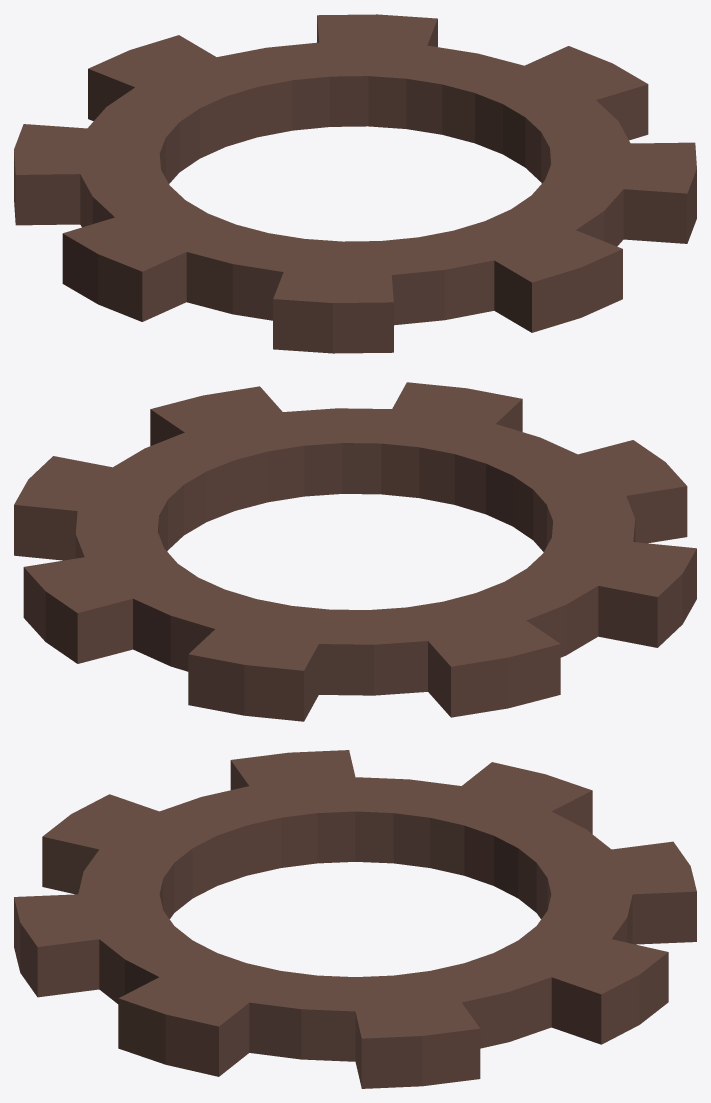
File: cog.glb
3 renders of one model, top to bottom at view 1: azimuth 30°, elevation 25°; view 2: azimuth 150°, elevation 25°; view 3: azimuth 270°, elevation 25°, orthographic.
Visible parts, largest first — view 1: Cog-col; view 2: Cog-col; view 3: Cog-col.
Part boxes in pixels (x1=…): Cog-col: x1=14, y1=14, x2=696, y2=353; Cog-col: x1=14, y1=382, x2=696, y2=721; Cog-col: x1=14, y1=750, x2=696, y2=1088.
Size of the model in its own units: 2.46 by 0.2003 by 2.46.
